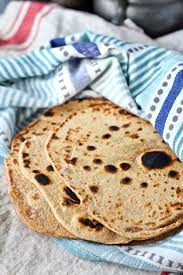roti: (7, 104, 183, 246)
